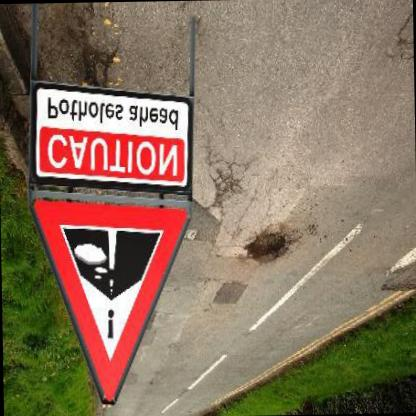pothole: (242, 224, 296, 266)
